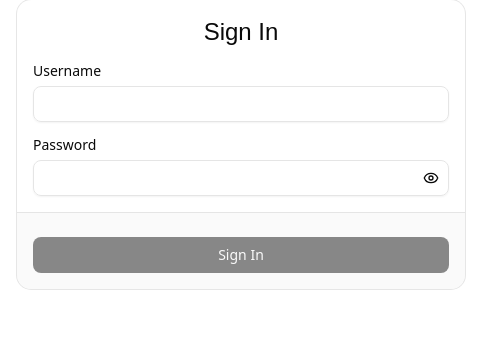
Scenario: SignInForm › surfaces the humanised failure returned by signin
Type "qauser" into the field labelled "Username" at (241, 104), box left=33, top=86, right=449, bottom=122
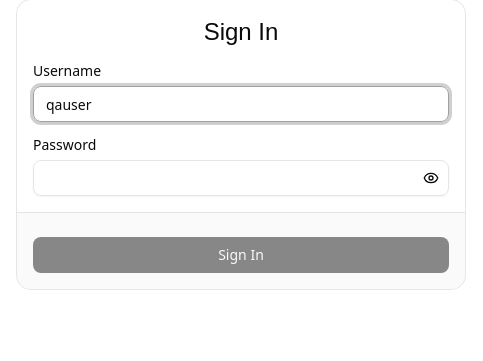
Type "hunter2hunter2" into the password field labelled "Password" at (241, 178), box left=33, top=160, right=449, bottom=196
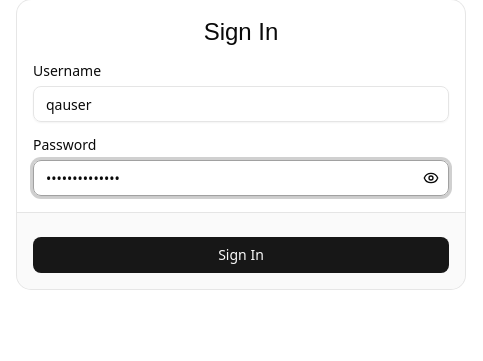
Click the button "Sign In" at (241, 255), box left=33, top=237, right=449, bottom=273
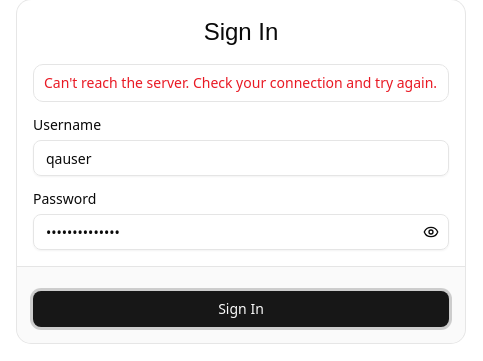
Expected: the button "Sign In" is enabled, left=33, top=291, right=449, bottom=327
Expected: the text "Can't reach the server. Check your connection and try again." is shown, left=44, top=73, right=438, bottom=93
